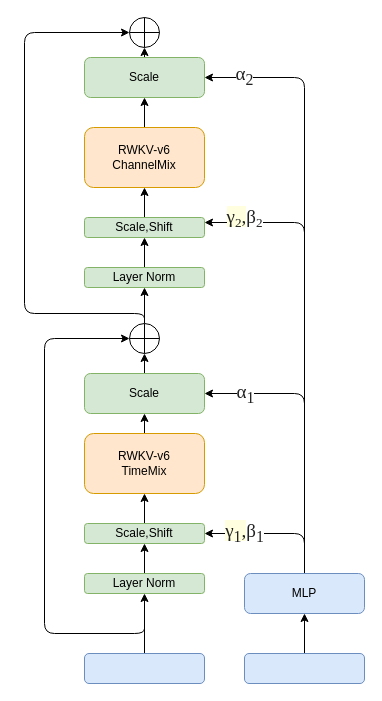
This 382x701 diagram has some shape labels left out. Here are the shapes that lost their labels. From the top down, the centre of each, then its label:
At [144,668]: "Input Tokens".
At [304,668]: "Conditioning".
